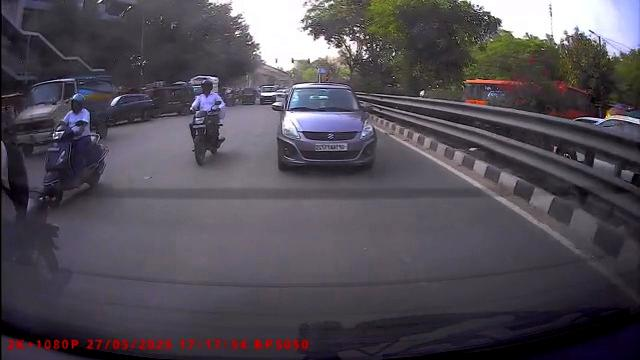motorcycle_with_helmet: (39, 91, 109, 208), (188, 78, 227, 168)
